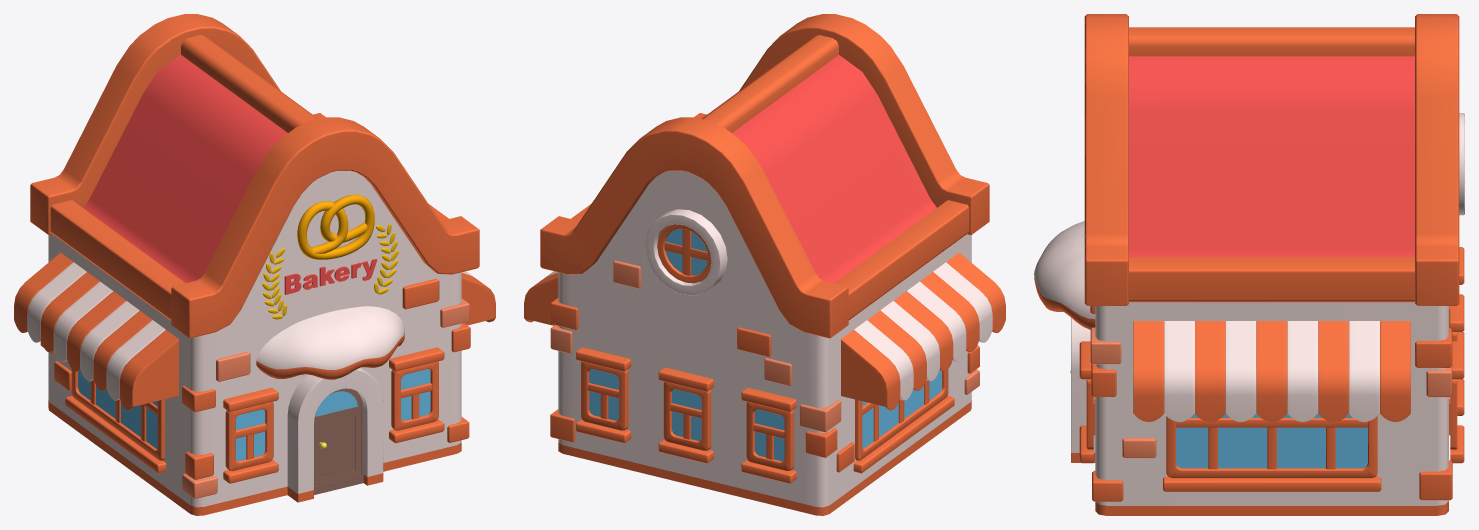
Rendered from Store_3_Bakery_1.glb.
3 views of the same model, side by side, from view 1: azimuth 30°, elevation 25°; view 2: azimuth 150°, elevation 25°; view 3: azimuth 270°, elevation 25° (orthographic). The views are drawn at different scales.
Parts seen in each view (by area): view 1: Store_3_Bakery_1; view 2: Store_3_Bakery_1; view 3: Store_3_Bakery_1.
Boxes of the visible parts, left/top/right/bottom form: Store_3_Bakery_1: left=14, top=14, right=495, bottom=515; Store_3_Bakery_1: left=524, top=14, right=1005, bottom=515; Store_3_Bakery_1: left=1034, top=14, right=1464, bottom=515.
Size of the model in its own units: 8.32 by 7.78 by 7.3.
Materials: 1 (1 with a texture image).
